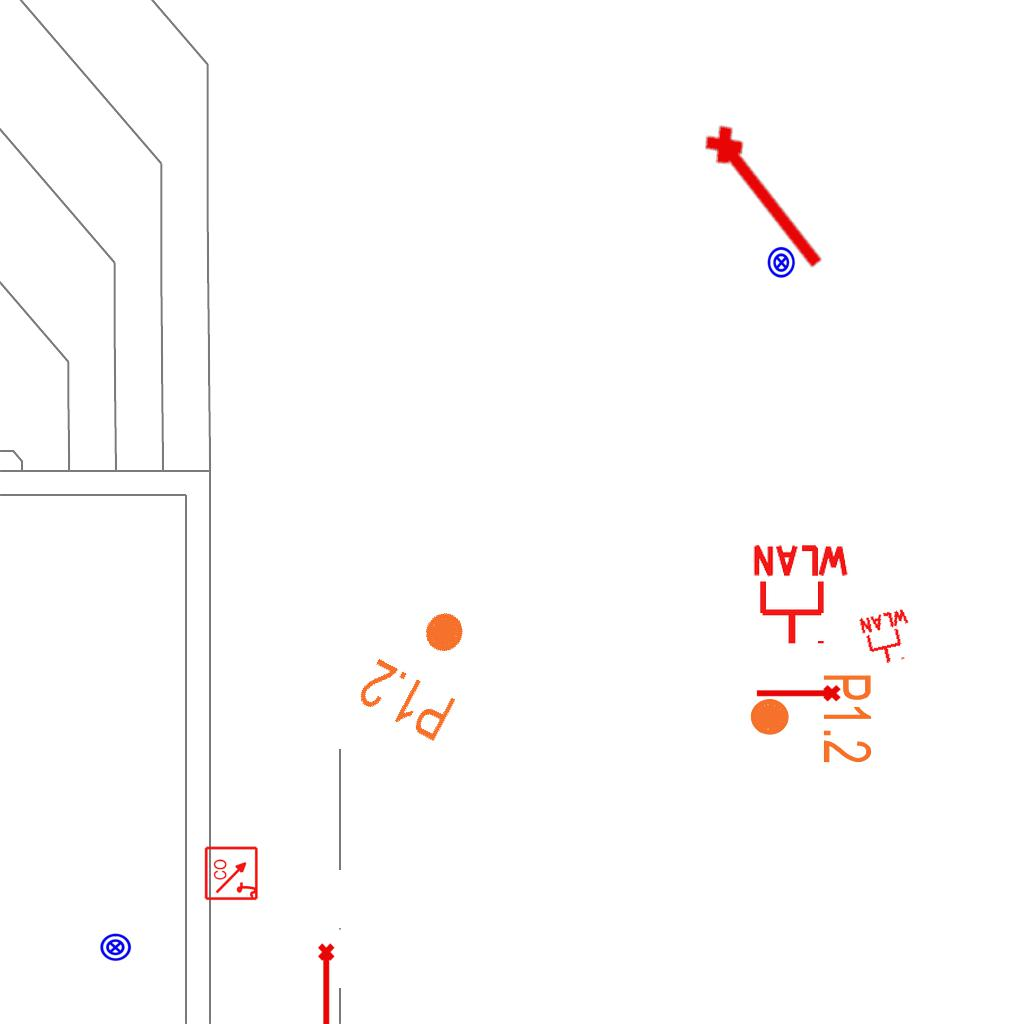ASR_Ansaugoeffnung: (695, 113, 841, 281), (754, 683, 842, 706), (316, 942, 339, 1024)
Downlight_LED_Einbauleuchten_Flur: (352, 589, 495, 747), (747, 672, 875, 765)
ROA_Rauchmelder_optisch_mit_Signalgeber_(Sockelsirene): (204, 845, 260, 901)
Taster_beleuchtet: (99, 931, 132, 964), (765, 246, 798, 279)
WLAN: (749, 543, 853, 648), (856, 606, 920, 670)
